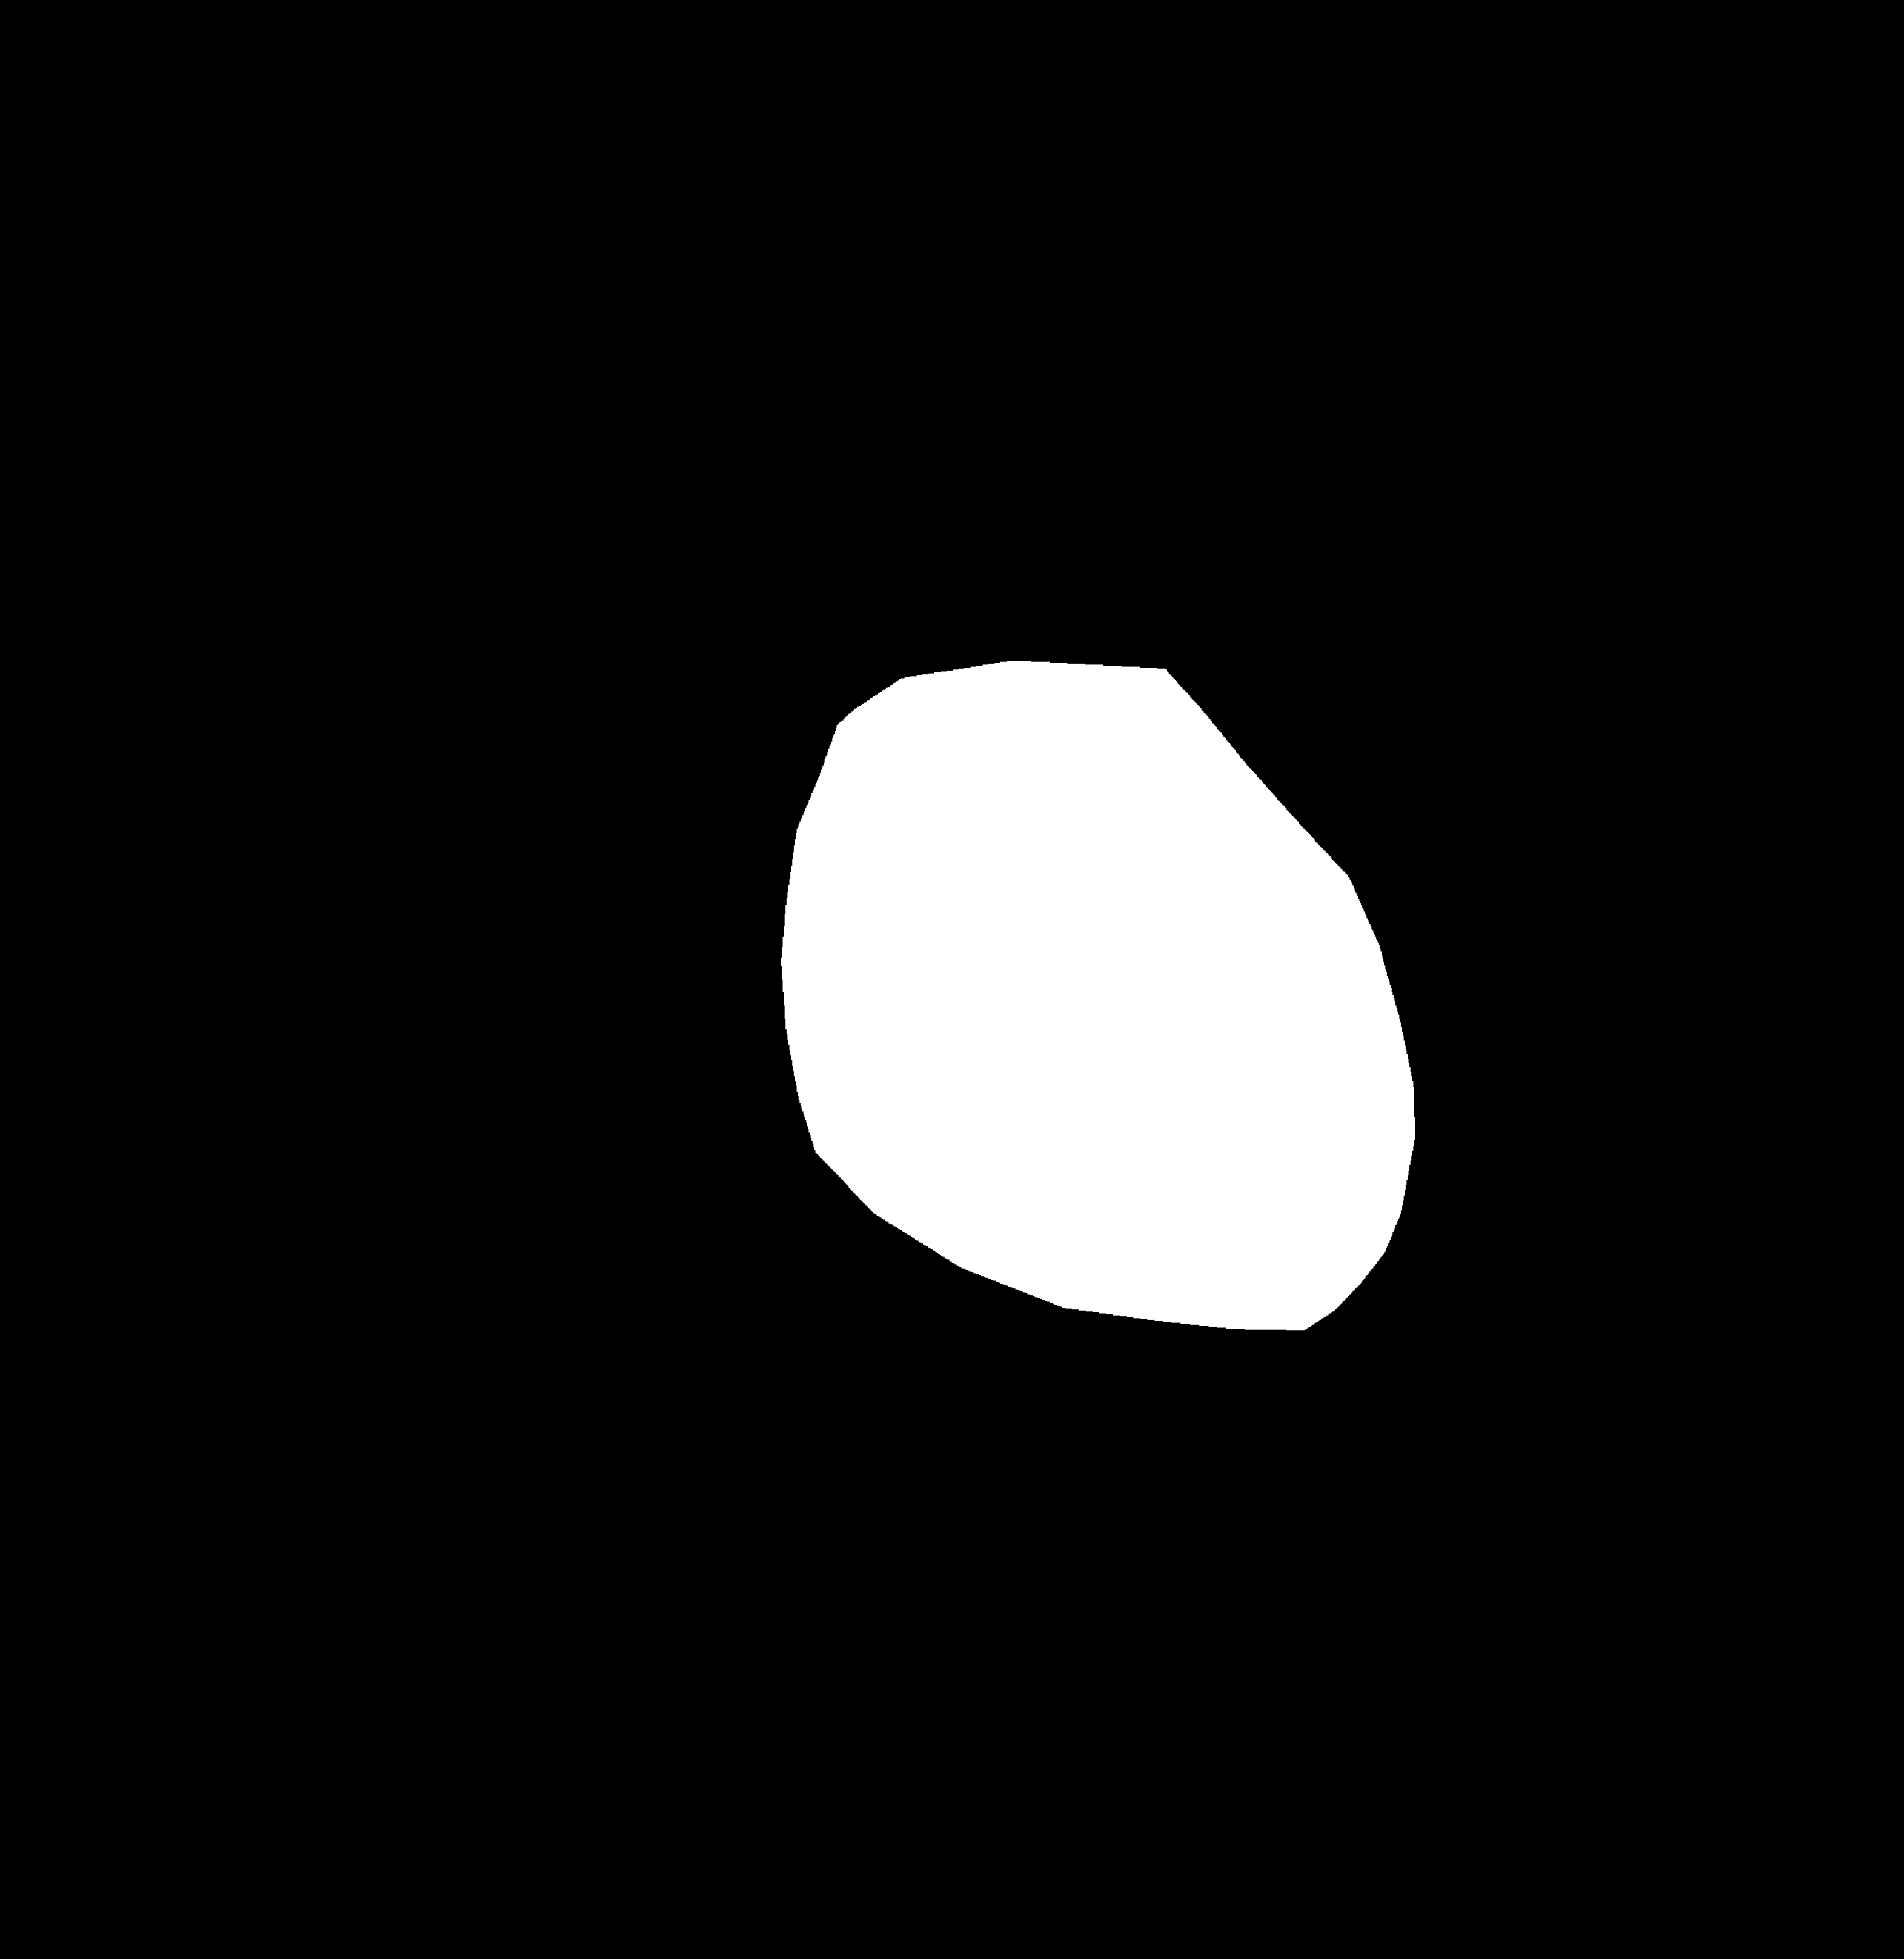heart: (779, 764, 1414, 1350)
left_lung: (318, 124, 870, 1427)
right_lung: (1045, 96, 1601, 1405)
